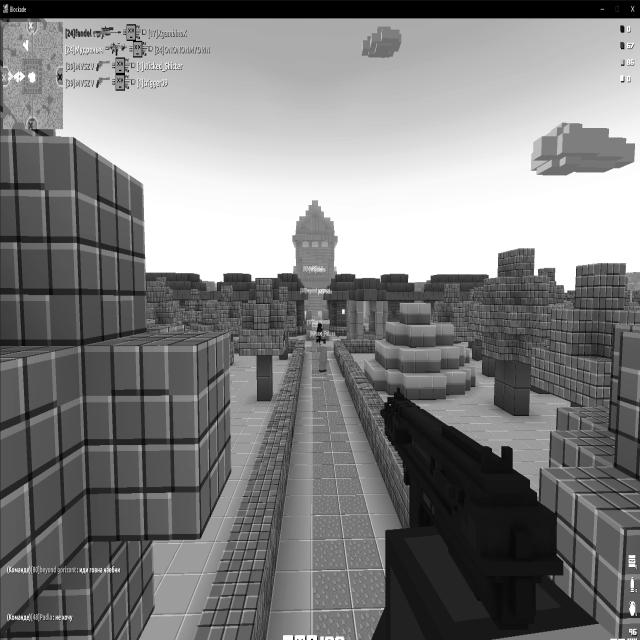Head: (320, 338, 327, 348), (318, 322, 322, 329)
Player: (316, 338, 328, 372), (316, 320, 323, 346)
